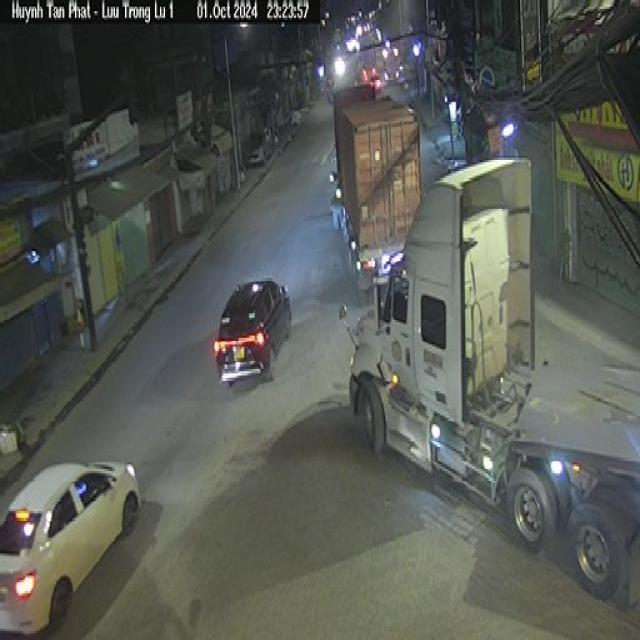car: (0, 458, 141, 638), (212, 276, 292, 386)
container-truck: (346, 153, 640, 607), (325, 86, 432, 289)
